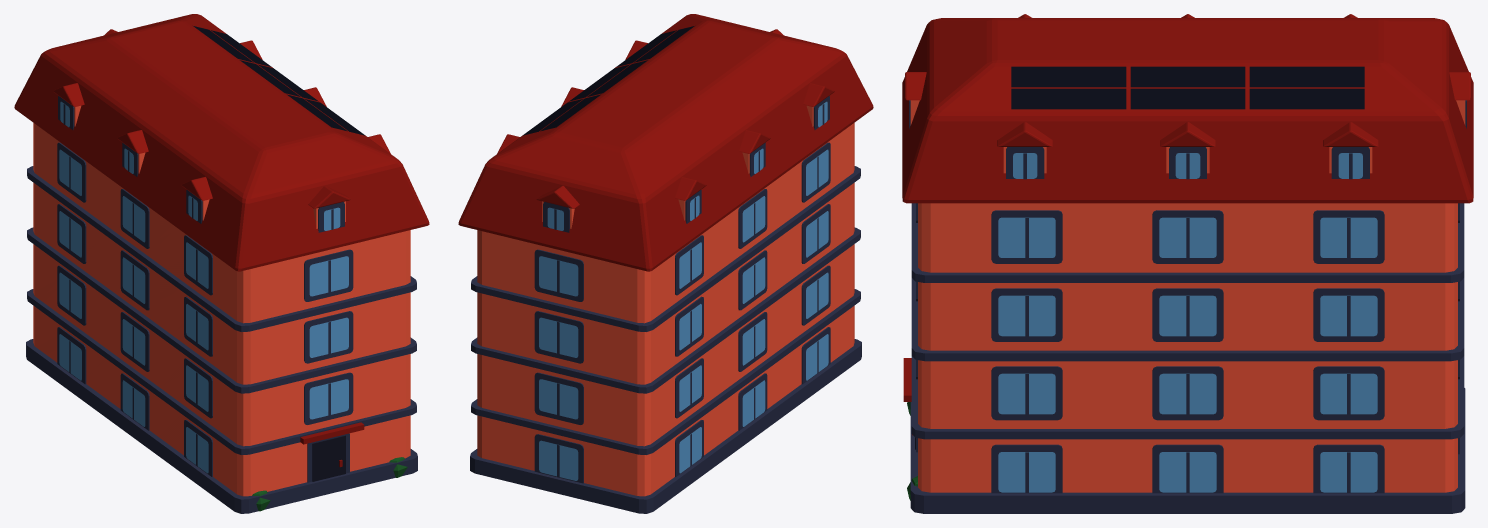
File: house-1x2-4f-mansard-c-solar.glb
3 views of the same model, side by side, from view 1: azimuth 30°, elevation 25°; view 2: azimuth 150°, elevation 25°; view 3: azimuth 270°, elevation 25° (orthographic). The views are drawn at different scales.
Visible parts, largest first — view 1: house-1x2-4f-mansard-c-solar; view 2: house-1x2-4f-mansard-c-solar; view 3: house-1x2-4f-mansard-c-solar.
Boxes of the visible parts, bbox=[...] form: house-1x2-4f-mansard-c-solar: bbox=[14, 14, 429, 513]; house-1x2-4f-mansard-c-solar: bbox=[458, 14, 873, 513]; house-1x2-4f-mansard-c-solar: bbox=[902, 14, 1473, 513].
Bounding box in the file's own units: 0.9876 × 1.6 × 1.99.
1 material, 1 textured.
